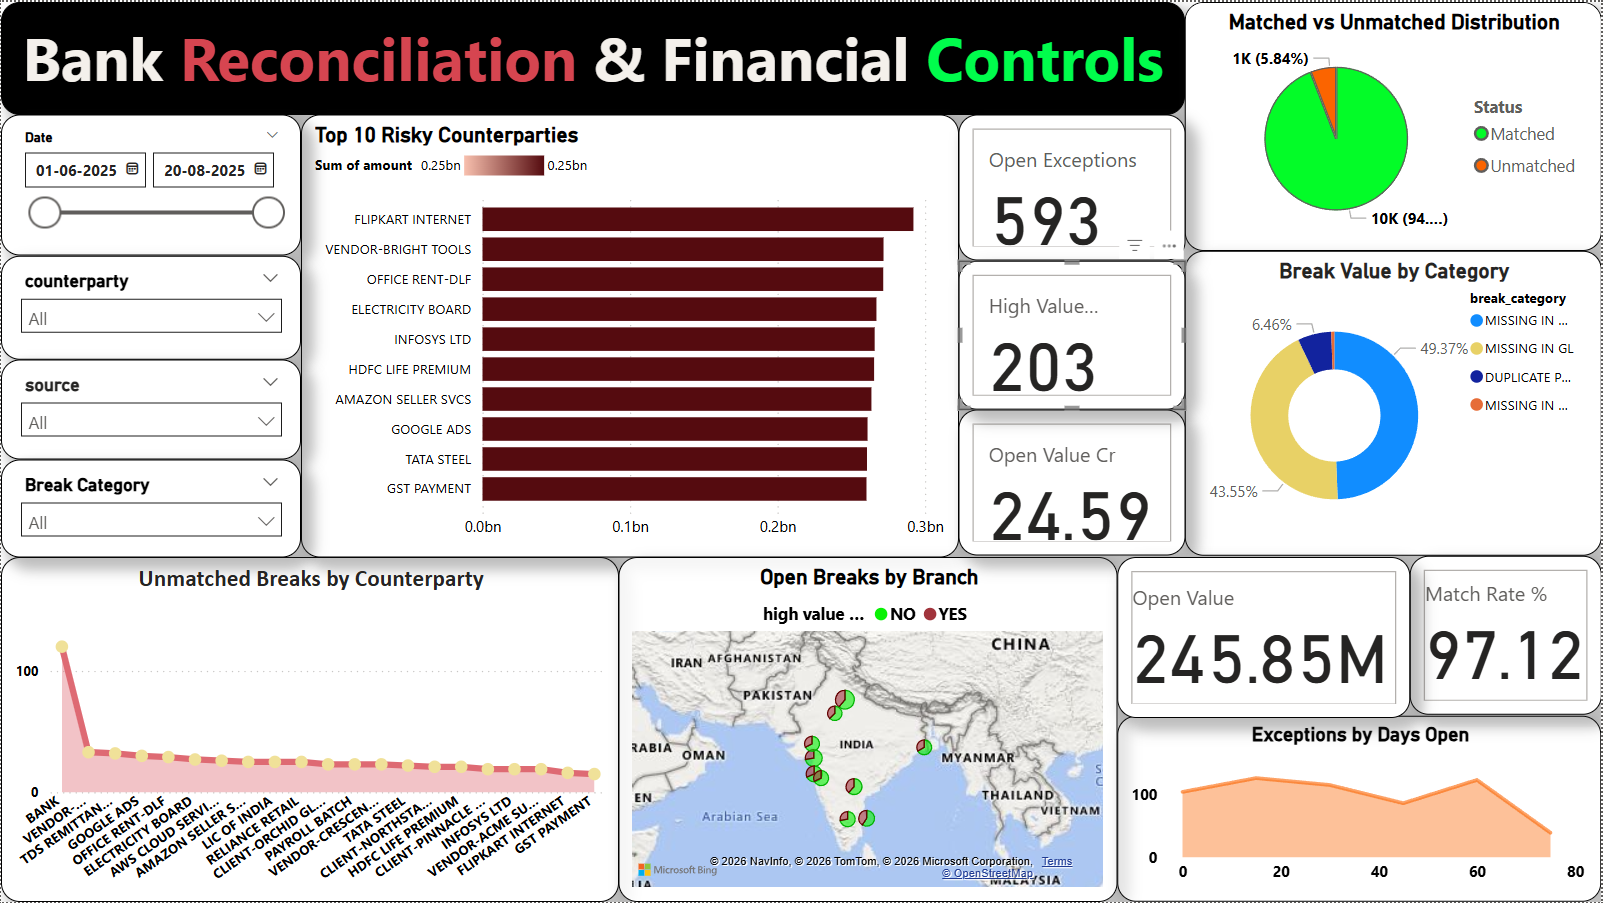

The page's visual inventory and layout, read from the dashboard file:
{"tool":"powerbi","page":{"name":"Page 1","canvas":[1280,720],"ordinal":0},"visuals":[{"type":"textbox","box":[0,0,947.1,90],"z":0},{"type":"lineChart","title":"Unmatched Breaks by Counterparty","fields":{"Y":["CountNonNull(exceptions_report.ref)"],"Category":["exceptions_report.counterparty"]},"box":[0,444.3,494.3,275.7],"z":1000},{"type":"pieChart","title":"Matched vs Unmatched Distribution","fields":{"Category":["MatchSplit.Status"],"Y":["Sum(MatchSplit.Cnt)"]},"box":[947.1,0,332.9,198.6],"z":2000},{"type":"donutChart","title":"Break Value by Category","fields":{"Category":["exceptions_report.break_category"],"Y":["Sum(exceptions_report.amount)"]},"box":[947.1,198.6,332.9,244.3],"z":3000},{"type":"clusteredBarChart","title":"Top 10 Risky Counterparties","fields":{"Category":["general_ledger.counterparty"],"Y":["Sum(general_ledger.amount)"]},"box":[240,90,525.7,354.3],"z":4000},{"type":"map","title":"Open Breaks by Branch","fields":{"Size":["CountNonNull(exceptions_report.ref)"],"Series":["exceptions_report.high_value_flag"],"Y":["exceptions_report.branch_lat"],"X":["exceptions_report.branch_lon"]},"box":[494.3,444.3,398.6,275.7],"z":5000},{"type":"areaChart","title":"Exceptions by Days Open","fields":{"Y":["CountNonNull(exceptions_report.ref)"],"Category":["exceptions_report.days_open (bins)"]},"box":[892.9,571.4,387.1,148.6],"z":6000},{"type":"cardVisual","fields":{"Data":["DateTable.Match Rate %"]},"box":[1126.7,443,153.5,126.7],"z":7000},{"type":"cardVisual","fields":{"Data":["DateTable.Open Exceptions"]},"box":[765.7,90,181.4,117.1],"z":8000},{"type":"cardVisual","fields":{"Data":["DateTable.Open Value Cr"]},"box":[765.7,325.7,181.4,117.1],"z":9000},{"type":"cardVisual","fields":{"Data":["DateTable.High Value Escalations"]},"box":[765.7,207.1,181.4,118.6],"z":10000},{"type":"slicer","fields":{"Values":["DateTable.Date"]},"box":[0,90,240,112.9],"z":11000},{"type":"slicer","fields":{"Values":["exceptions_report.counterparty"]},"box":[0,202.9,240,82.9],"z":12000},{"type":"slicer","fields":{"Values":["exceptions_report.source"]},"box":[0,285.7,240,80],"z":13000},{"type":"slicer","fields":{"Values":["exceptions_report.break_category"]},"box":[0,365.7,240,78.6],"z":14000},{"type":"cardVisual","fields":{"Data":["DateTable.Open Value"]},"box":[893,444.2,233.7,129.1],"z":15000}]}

Visuals, with their boxes in screenshot pixels (x1, y1, x2, y2), scaled from the page's 1280x720 canvas onto the 1603x903 screenshot:
textbox: 0:0:1186:113
"Unmatched Breaks by Counterparty" lineChart: 0:557:619:902
"Matched vs Unmatched Distribution" pieChart: 1186:0:1602:249
"Break Value by Category" donutChart: 1186:249:1602:555
"Top 10 Risky Counterparties" clusteredBarChart: 301:113:959:557
"Open Breaks by Branch" map: 619:557:1118:902
"Exceptions by Days Open" areaChart: 1118:717:1602:902
cardVisual - DateTable.Match Rate %: 1411:556:1602:714
cardVisual - DateTable.Open Exceptions: 959:113:1186:260
cardVisual - DateTable.Open Value Cr: 959:408:1186:555
cardVisual - DateTable.High Value Escalations: 959:260:1186:408
slicer - DateTable.Date: 0:113:301:254
slicer - exceptions_report.counterparty: 0:254:301:358
slicer - exceptions_report.source: 0:358:301:459
slicer - exceptions_report.break_category: 0:459:301:557
cardVisual - DateTable.Open Value: 1118:557:1411:719
